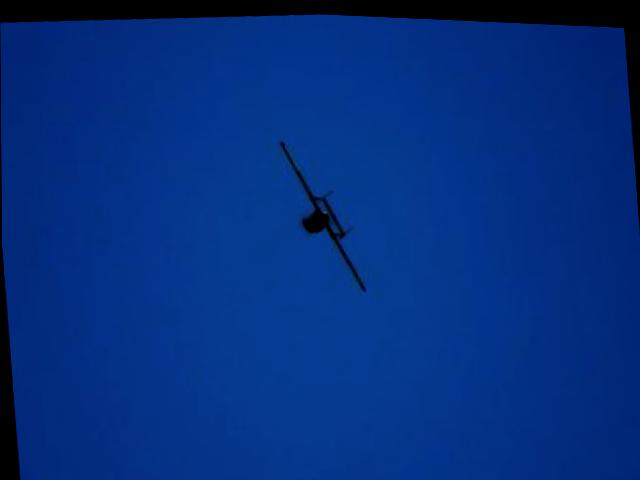uav: (275, 129, 368, 293)
